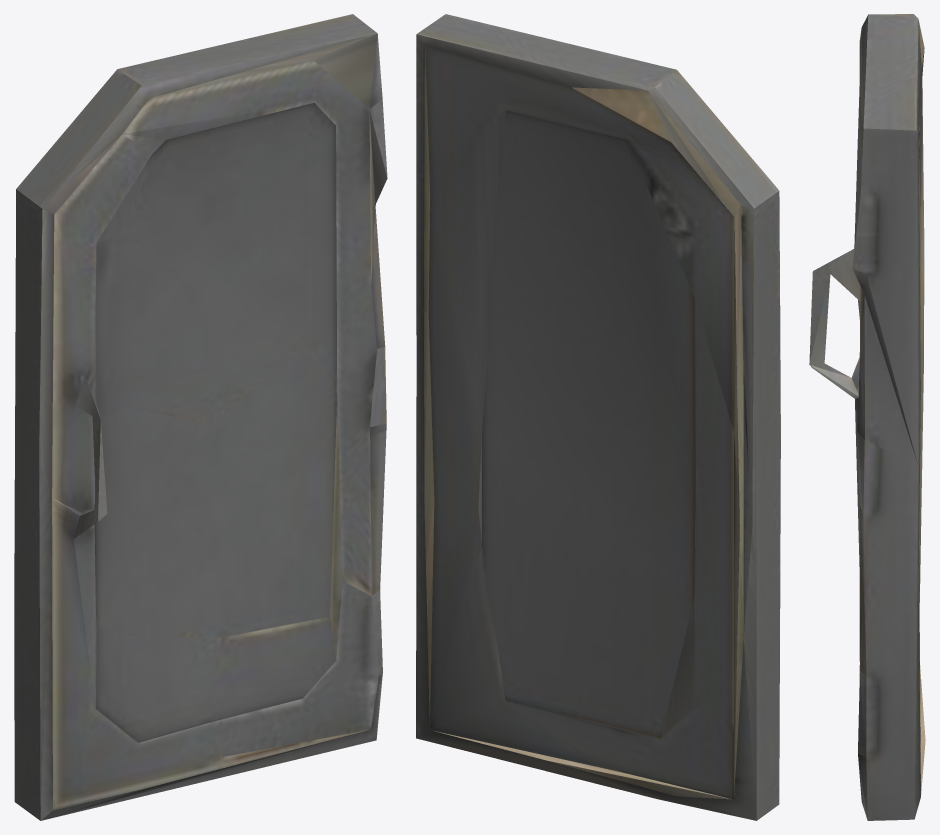
The model's file is imperial_power_plant__entrance_door_leaf_lod2.glb.
3 views of the same model, side by side, from view 1: azimuth 30°, elevation 25°; view 2: azimuth 150°, elevation 25°; view 3: azimuth 270°, elevation 25° (orthographic). The views are drawn at different scales.
Visible parts, largest first — view 1: mesh_node; view 2: mesh_node; view 3: mesh_node.
Part boxes in pixels (x1=…): mesh_node: x1=14, y1=14, x2=387, y2=820; mesh_node: x1=416, y1=14, x2=780, y2=820; mesh_node: x1=809, y1=14, x2=925, y2=820.
Size of the model in its own units: 1.58 by 3.1 by 0.4703.
1 material, 1 textured.
